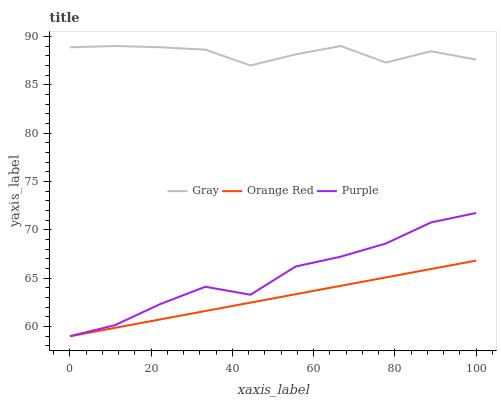axis: (54, 344, 501, 359), (42, 34, 56, 346)
legend: (163, 171, 382, 211)
line: (71, 211, 476, 339), (71, 259, 476, 338), (70, 44, 476, 68)
